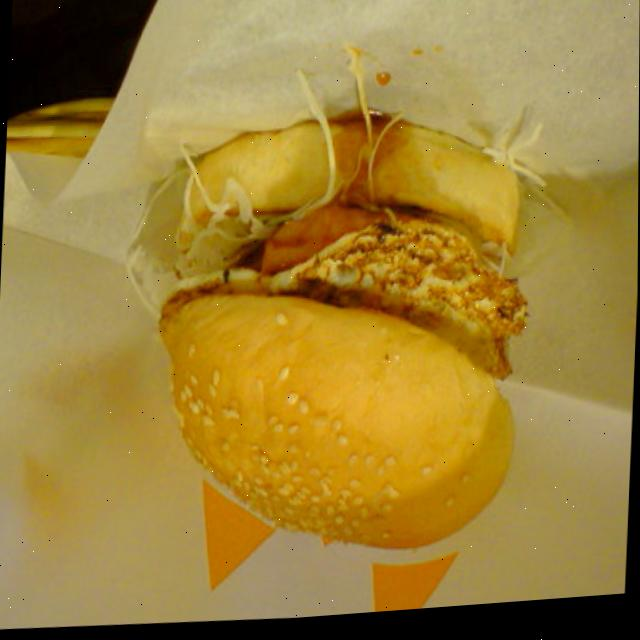汉堡快餐: (124, 97, 535, 577)
